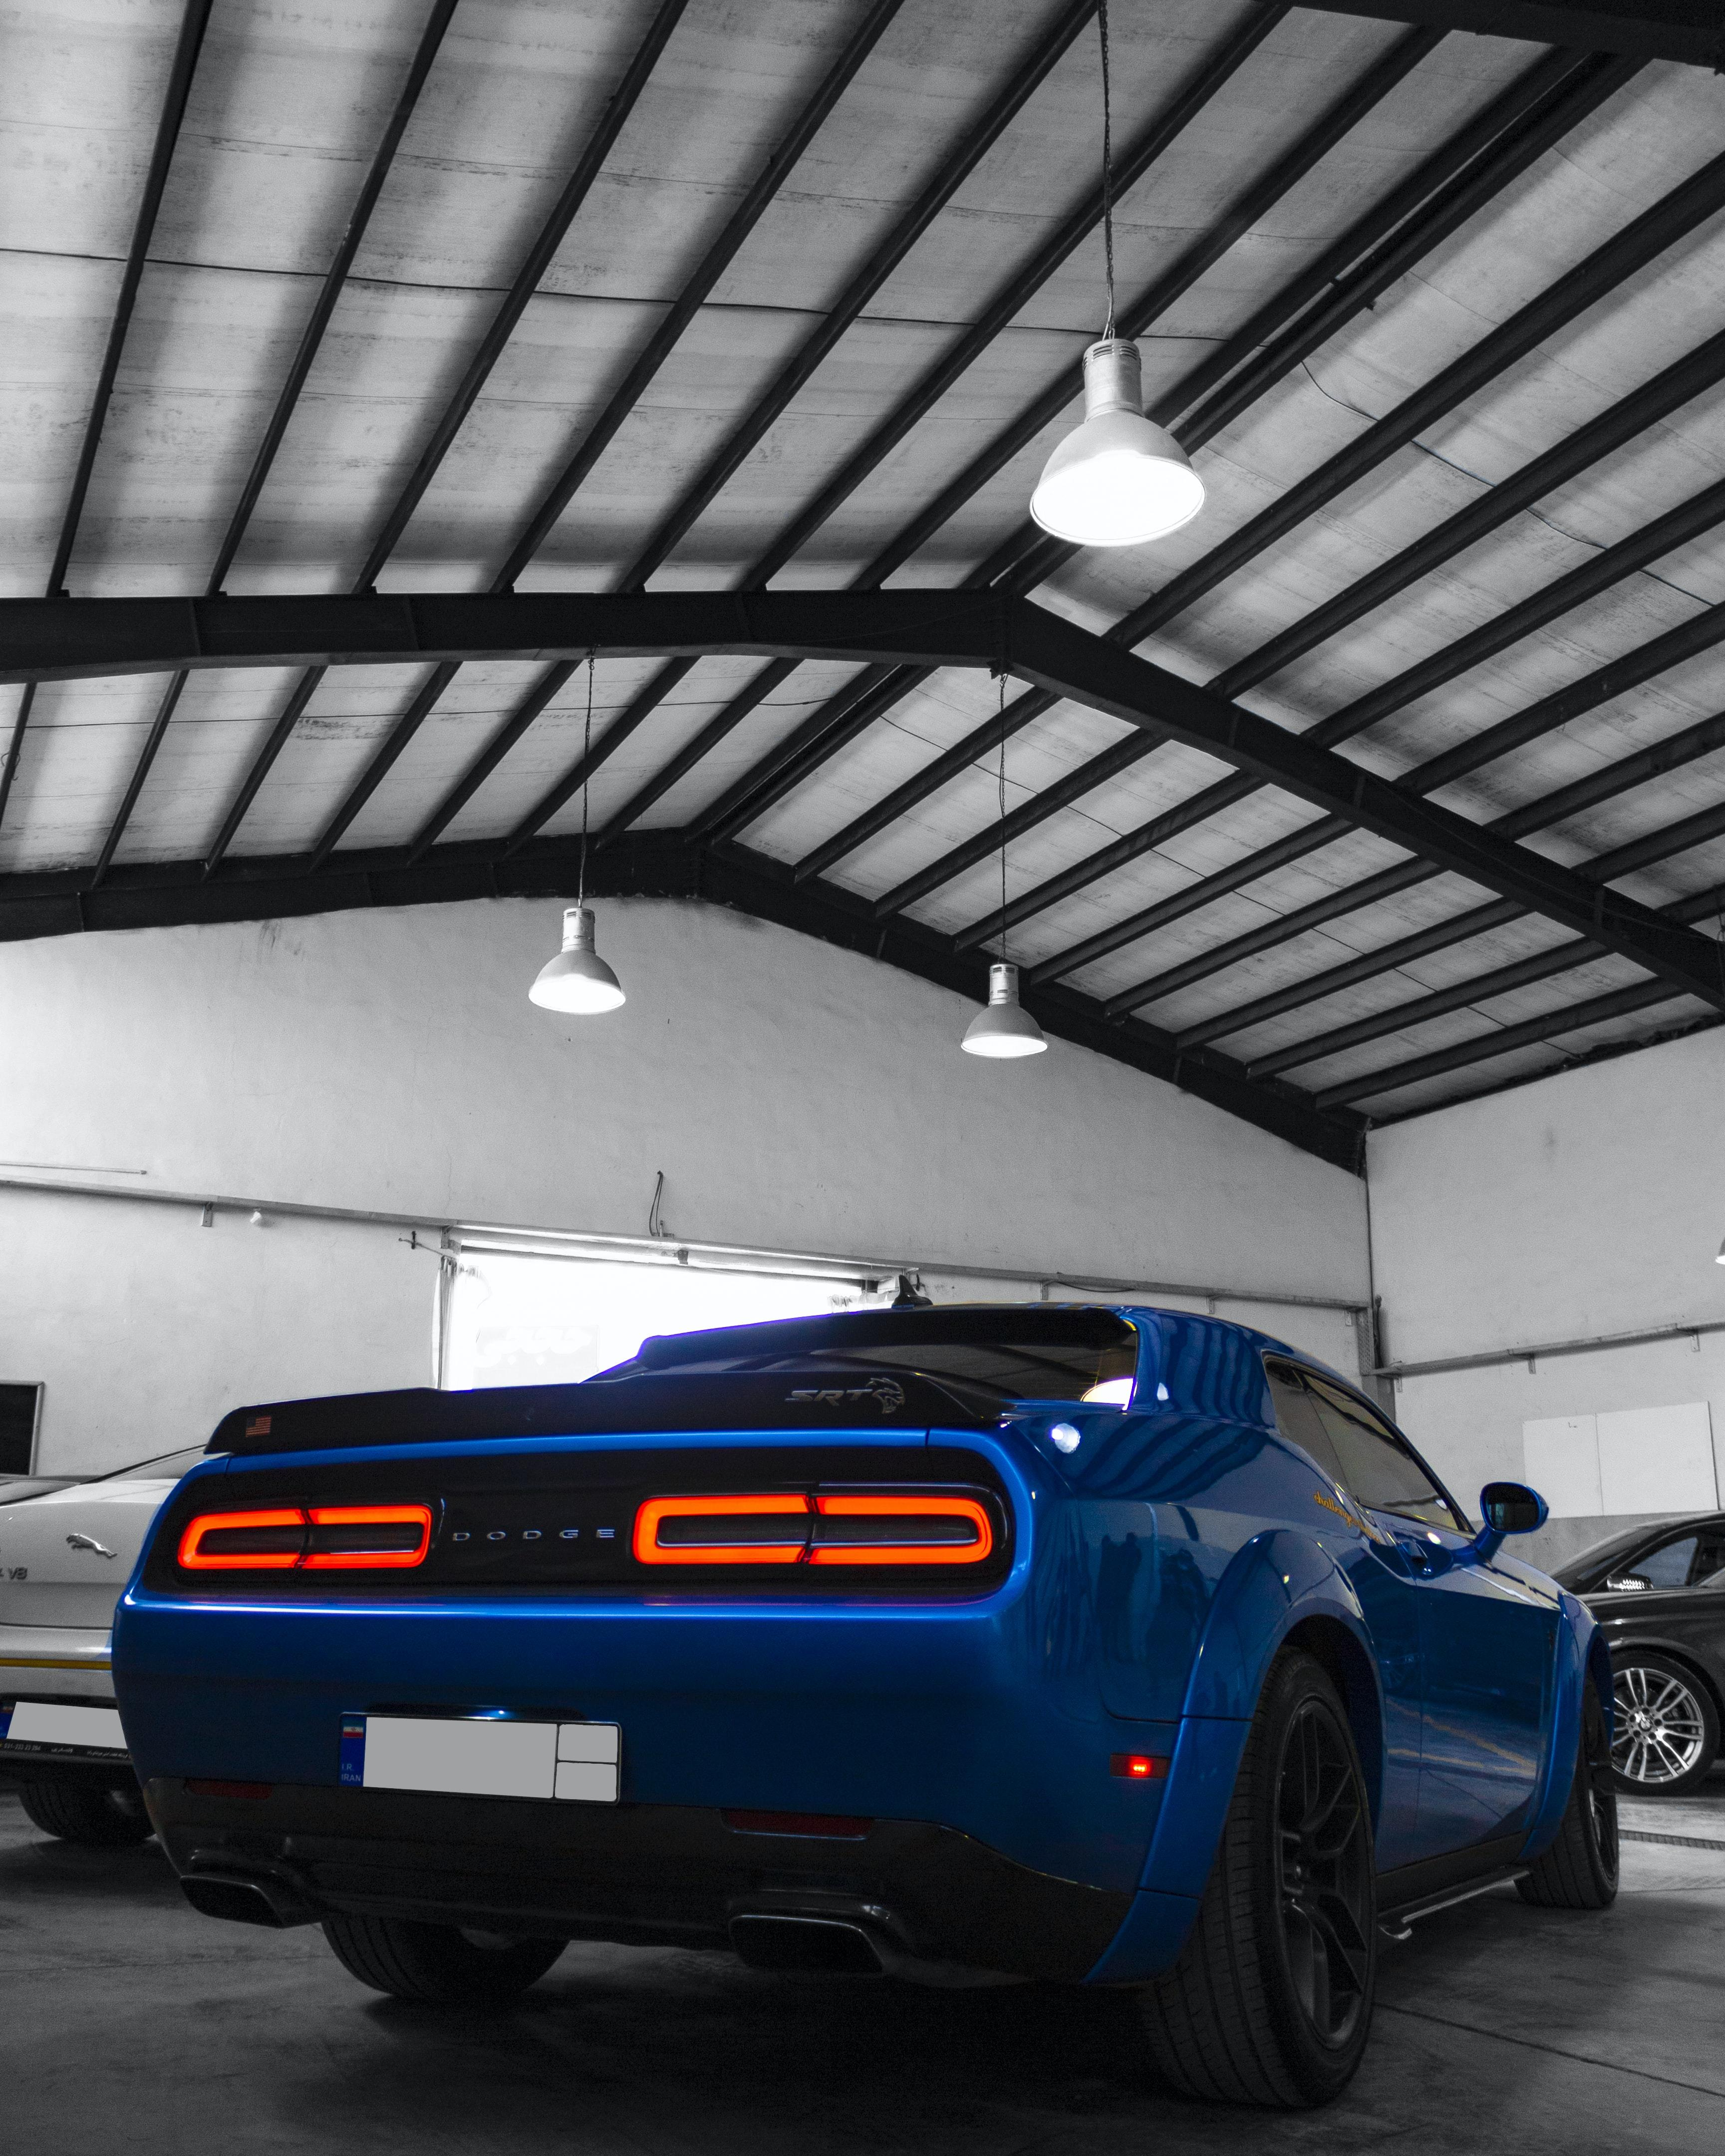dodge: (426, 1496, 648, 1572)
